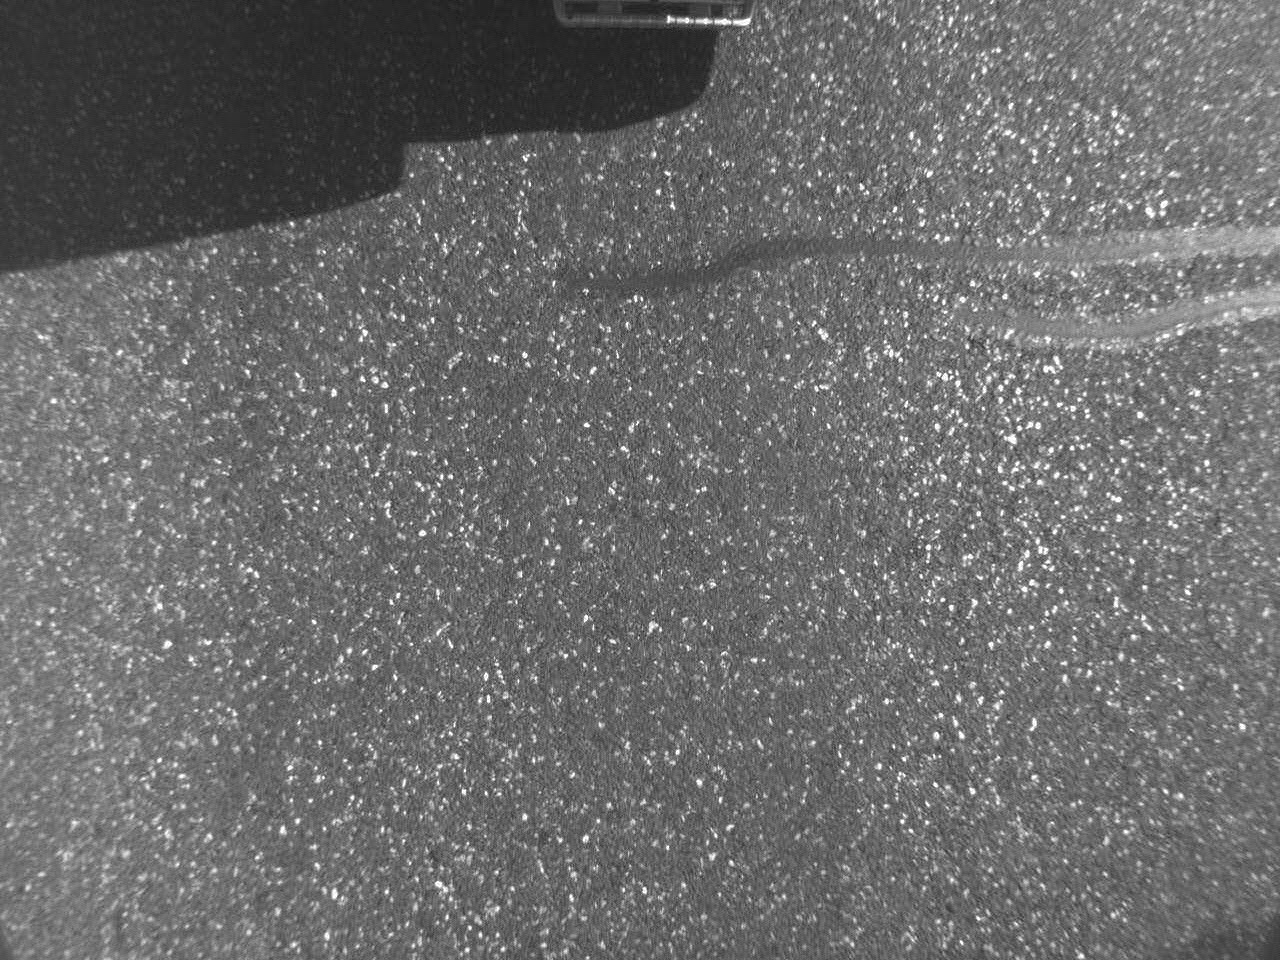sealed: (586, 212, 1280, 362)
